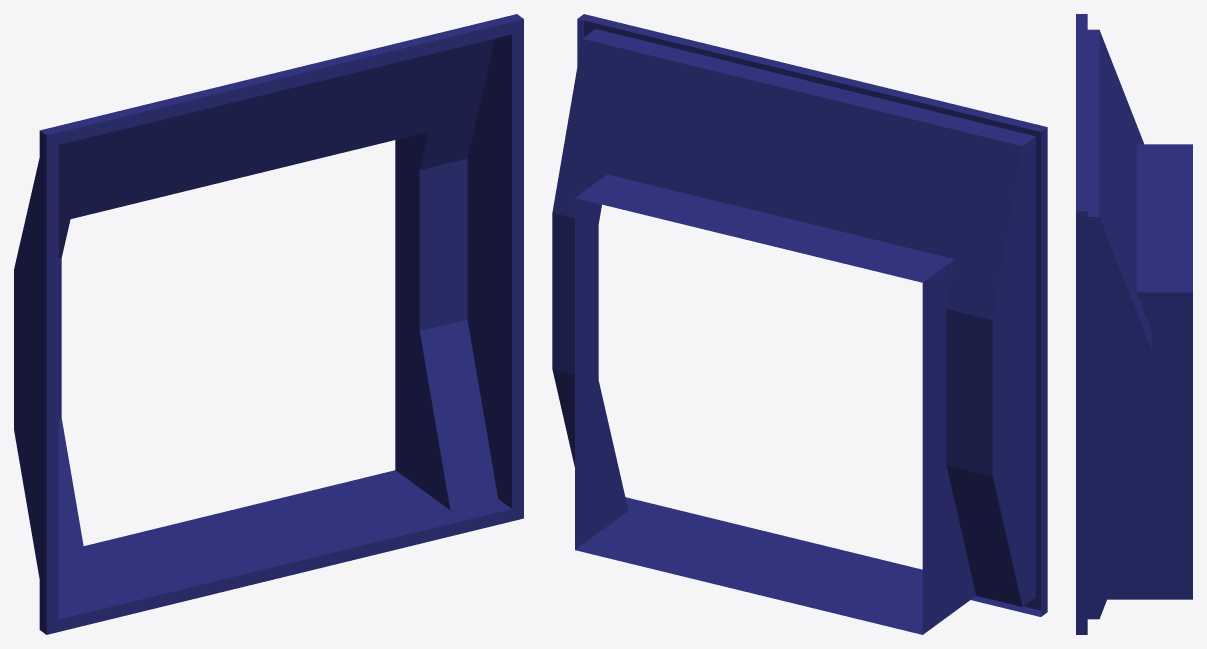
The model's file is Wall_A_4x4m_Door.FBX.
3 views of the same model, side by side, from view 1: azimuth 30°, elevation 25°; view 2: azimuth 150°, elevation 25°; view 3: azimuth 270°, elevation 25° (orthographic). The views are drawn at different scales.
Visible parts, largest first — view 1: Wall_A_4x4m_Door; view 2: Wall_A_4x4m_Door; view 3: Wall_A_4x4m_Door.
Boxes of the visible parts, bbox=[...] form: Wall_A_4x4m_Door: bbox=[14, 14, 523, 634]; Wall_A_4x4m_Door: bbox=[552, 14, 1047, 634]; Wall_A_4x4m_Door: bbox=[1076, 14, 1192, 634].
Size of the model in its own units: 400 by 400 by 100.
